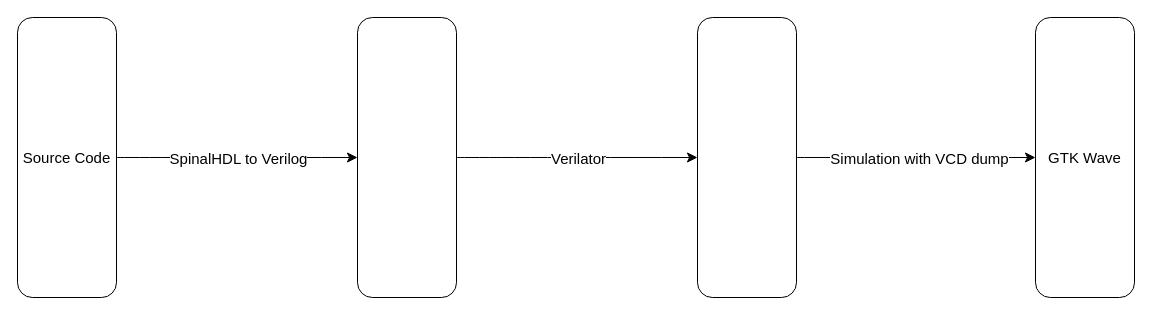
This 1152x315 diagram has some shape labels left out. The centre of each missing label's shape, as x and y in pixels:
C-Style Simulation Binary: the point at 746,157
Verilog: the point at 406,157
